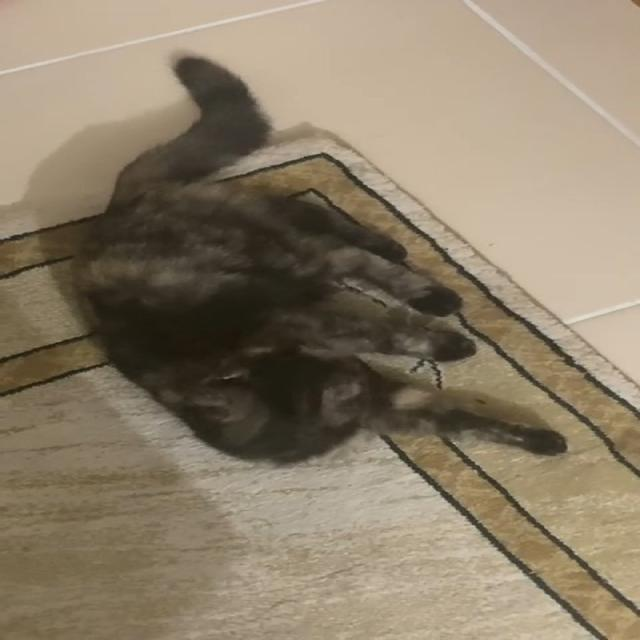authorized: (68, 51, 568, 466)
